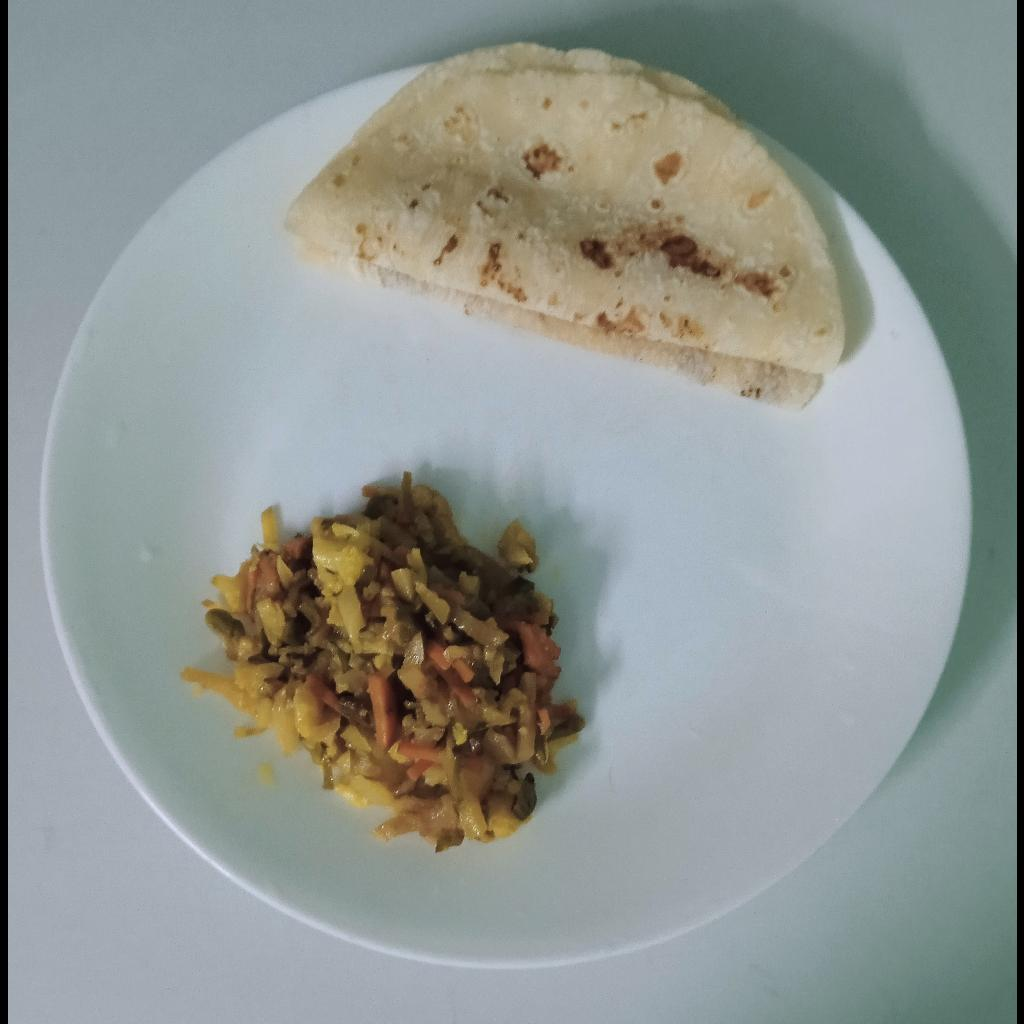ruti: (278, 40, 847, 413)
vegetable: (176, 479, 585, 859)
